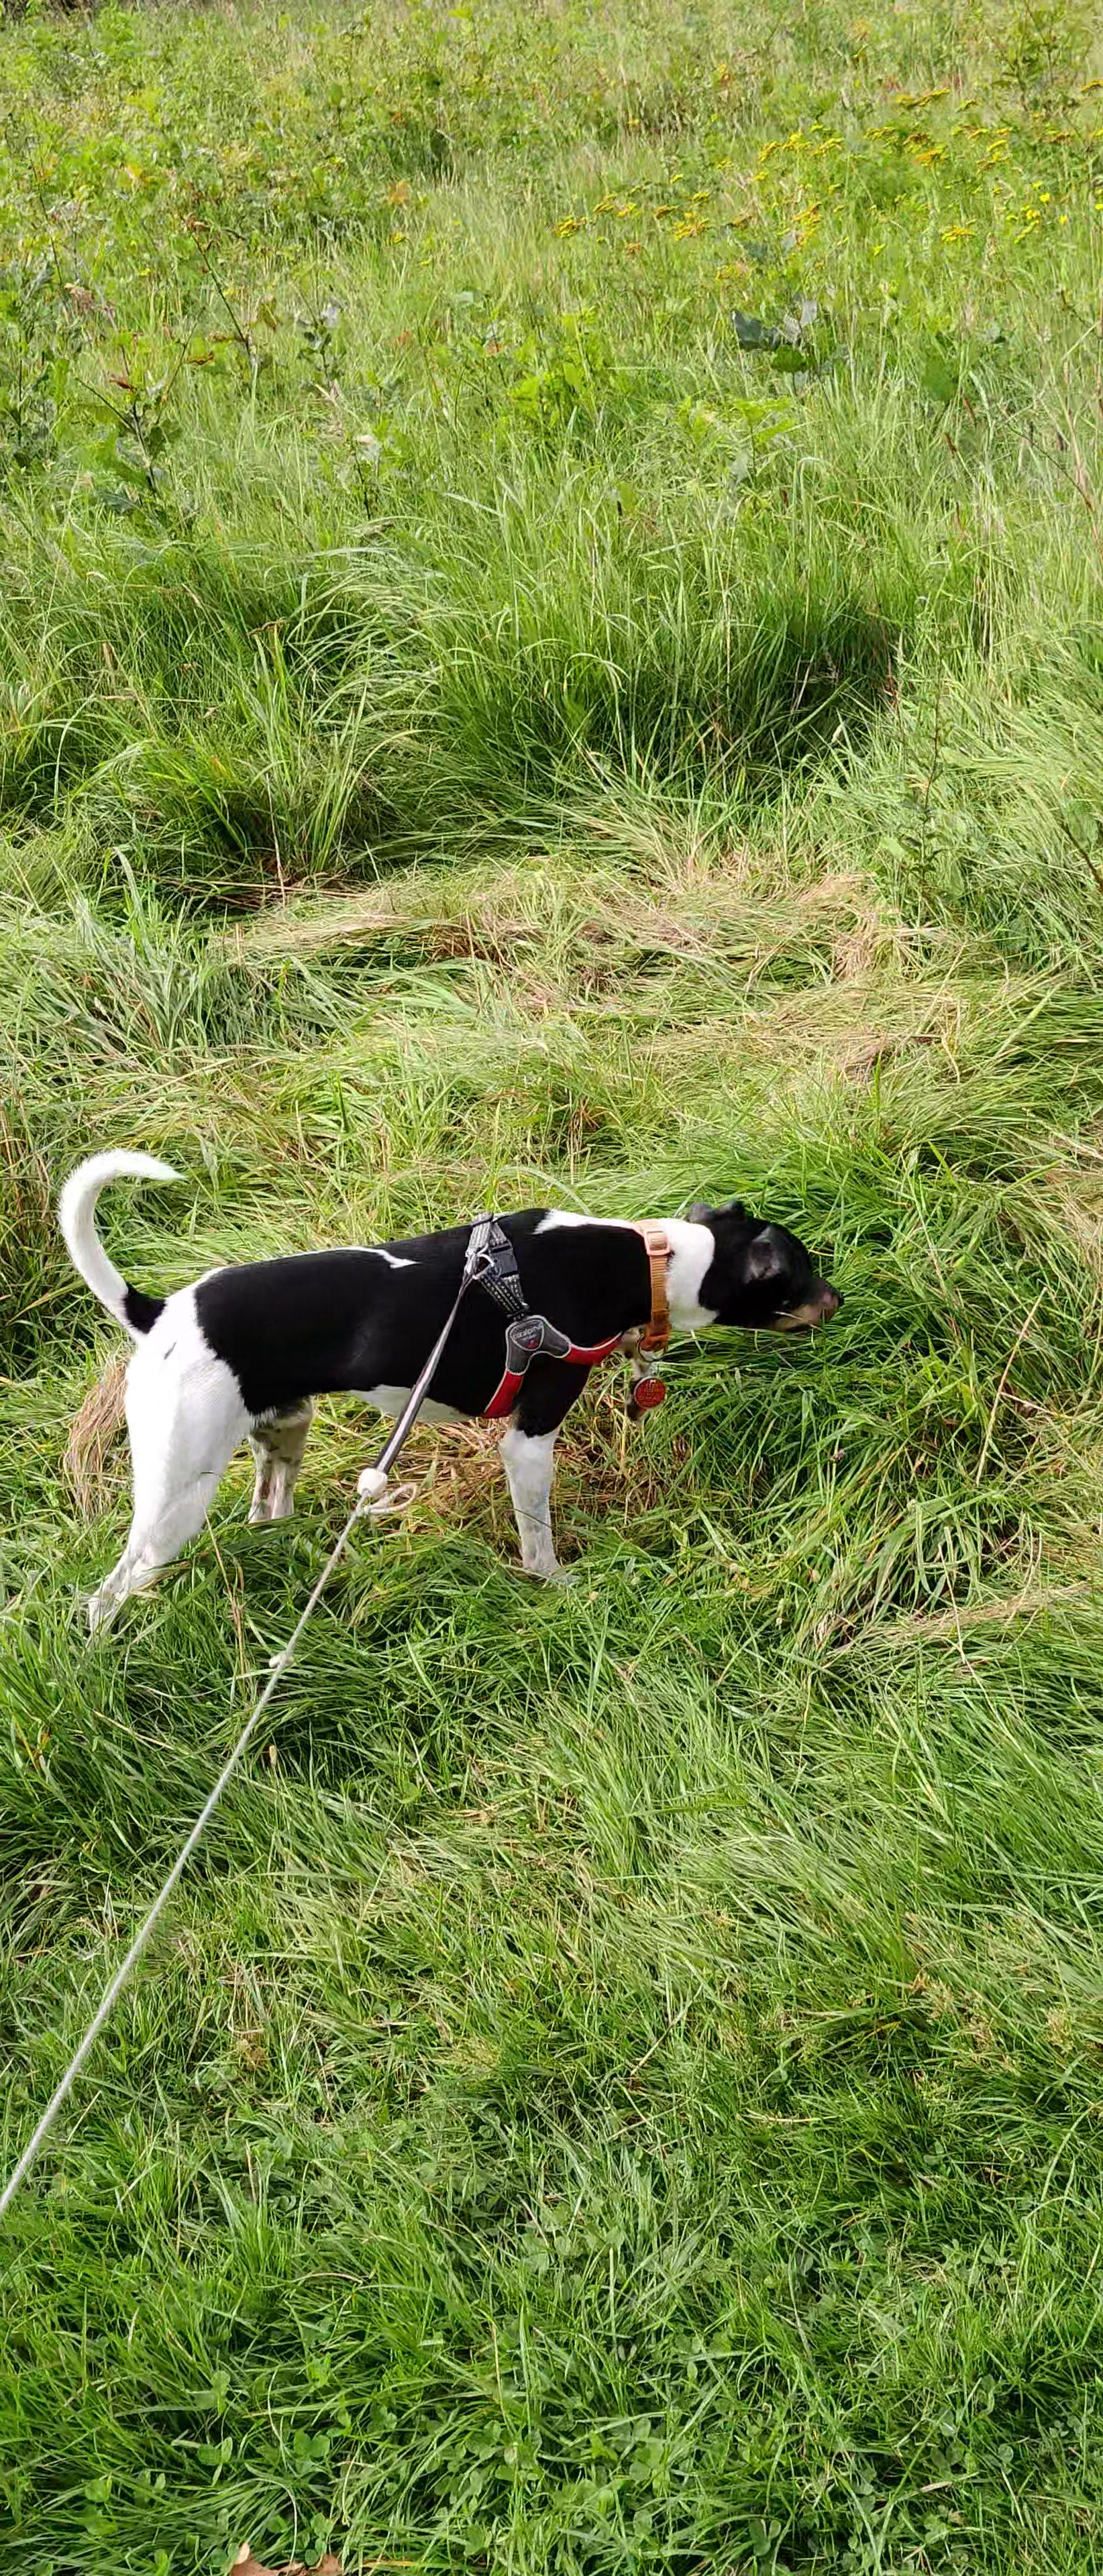Dog: (43, 1107, 848, 1659)
